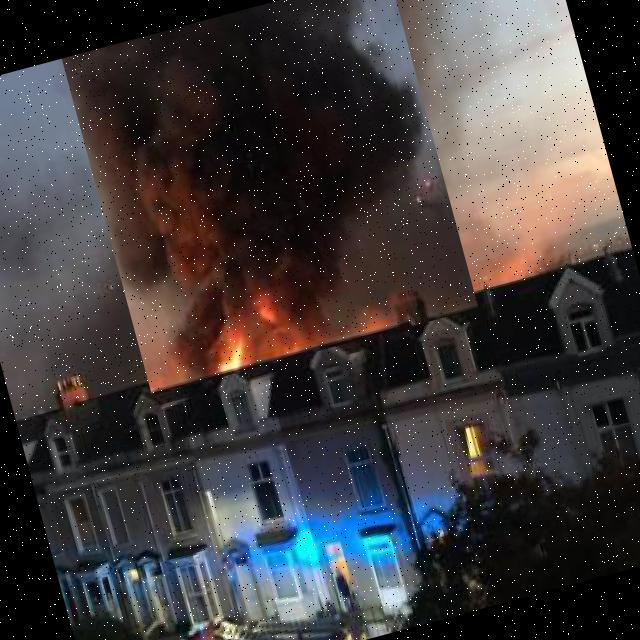fire: (61, 0, 478, 395)
